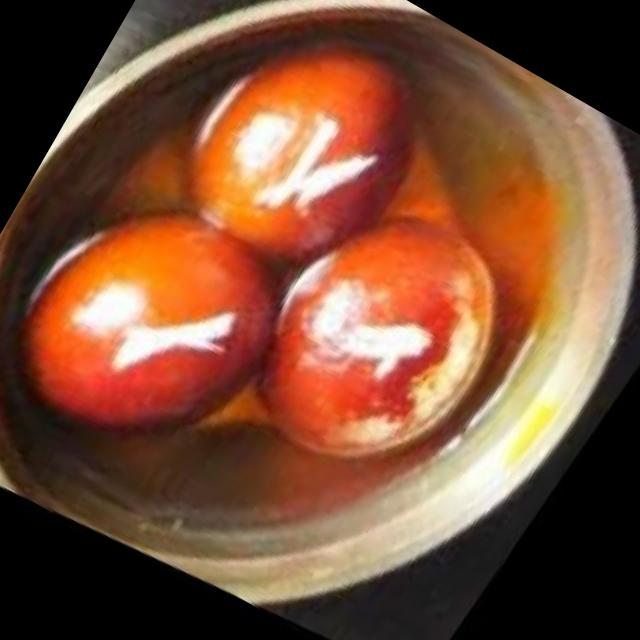gulab_jamun: (212, 172, 544, 524), (0, 158, 323, 506), (151, 0, 462, 317)
